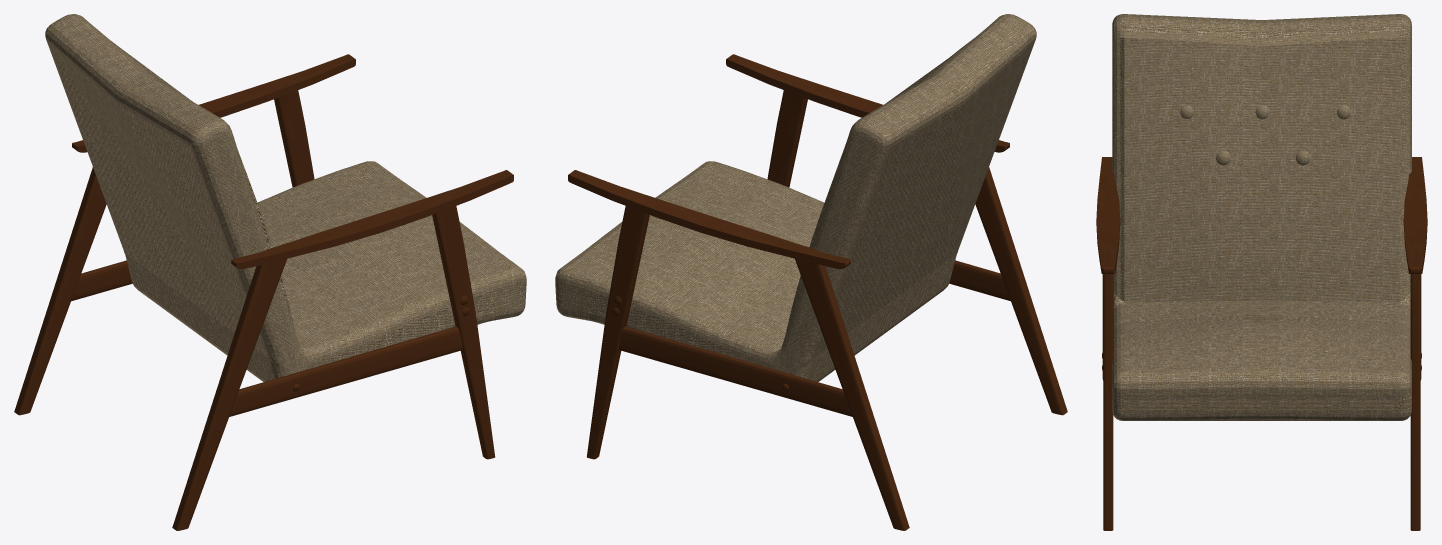
Rendered from Dillion11.glb.
3 views of the same model, side by side, from view 1: azimuth 30°, elevation 25°; view 2: azimuth 150°, elevation 25°; view 3: azimuth 270°, elevation 25° (orthographic). The views are drawn at different scales.
Parts seen in each view (by area): view 1: Cylinder.005, Cube.005, Cube.007, Cube.006, Cube.002, Cube.004, Cube.003, Cube.001, Cube; view 2: Cylinder.005, Cube.002, Cube, Cube.001, Cube.005, Cube.003, Cube.004, Cube.006, Cube.007; view 3: Cylinder.005, Cube.006, Cube.001, Cube.004, Cube.003.
Boxes of the visible parts, x1,y1,x2,y2 form: Cylinder.005: (45, 14, 526, 381); Cube.005: (172, 259, 286, 530); Cube.007: (229, 326, 462, 416); Cube.006: (432, 206, 495, 459); Cube.002: (14, 167, 106, 415); Cube.004: (231, 170, 513, 269); Cube.003: (72, 54, 355, 152); Cube.001: (274, 90, 314, 187); Cube: (71, 260, 132, 301); Cylinder.005: (555, 14, 1036, 381); Cube.002: (795, 258, 909, 530); Cube: (619, 326, 852, 416); Cube.001: (587, 206, 649, 459); Cube.005: (975, 167, 1067, 415); Cube.003: (568, 170, 850, 269); Cube.004: (726, 54, 1009, 152); Cube.006: (767, 90, 807, 187); Cube.007: (949, 260, 1010, 301); Cylinder.005: (1112, 14, 1411, 420); Cube.006: (1103, 274, 1113, 530); Cube.001: (1410, 274, 1420, 530); Cube.004: (1096, 157, 1120, 273); Cube.003: (1403, 157, 1427, 273).
Size of the model in its own units: 2.12 by 2.24 by 1.75.
2 materials, 2 textured.
